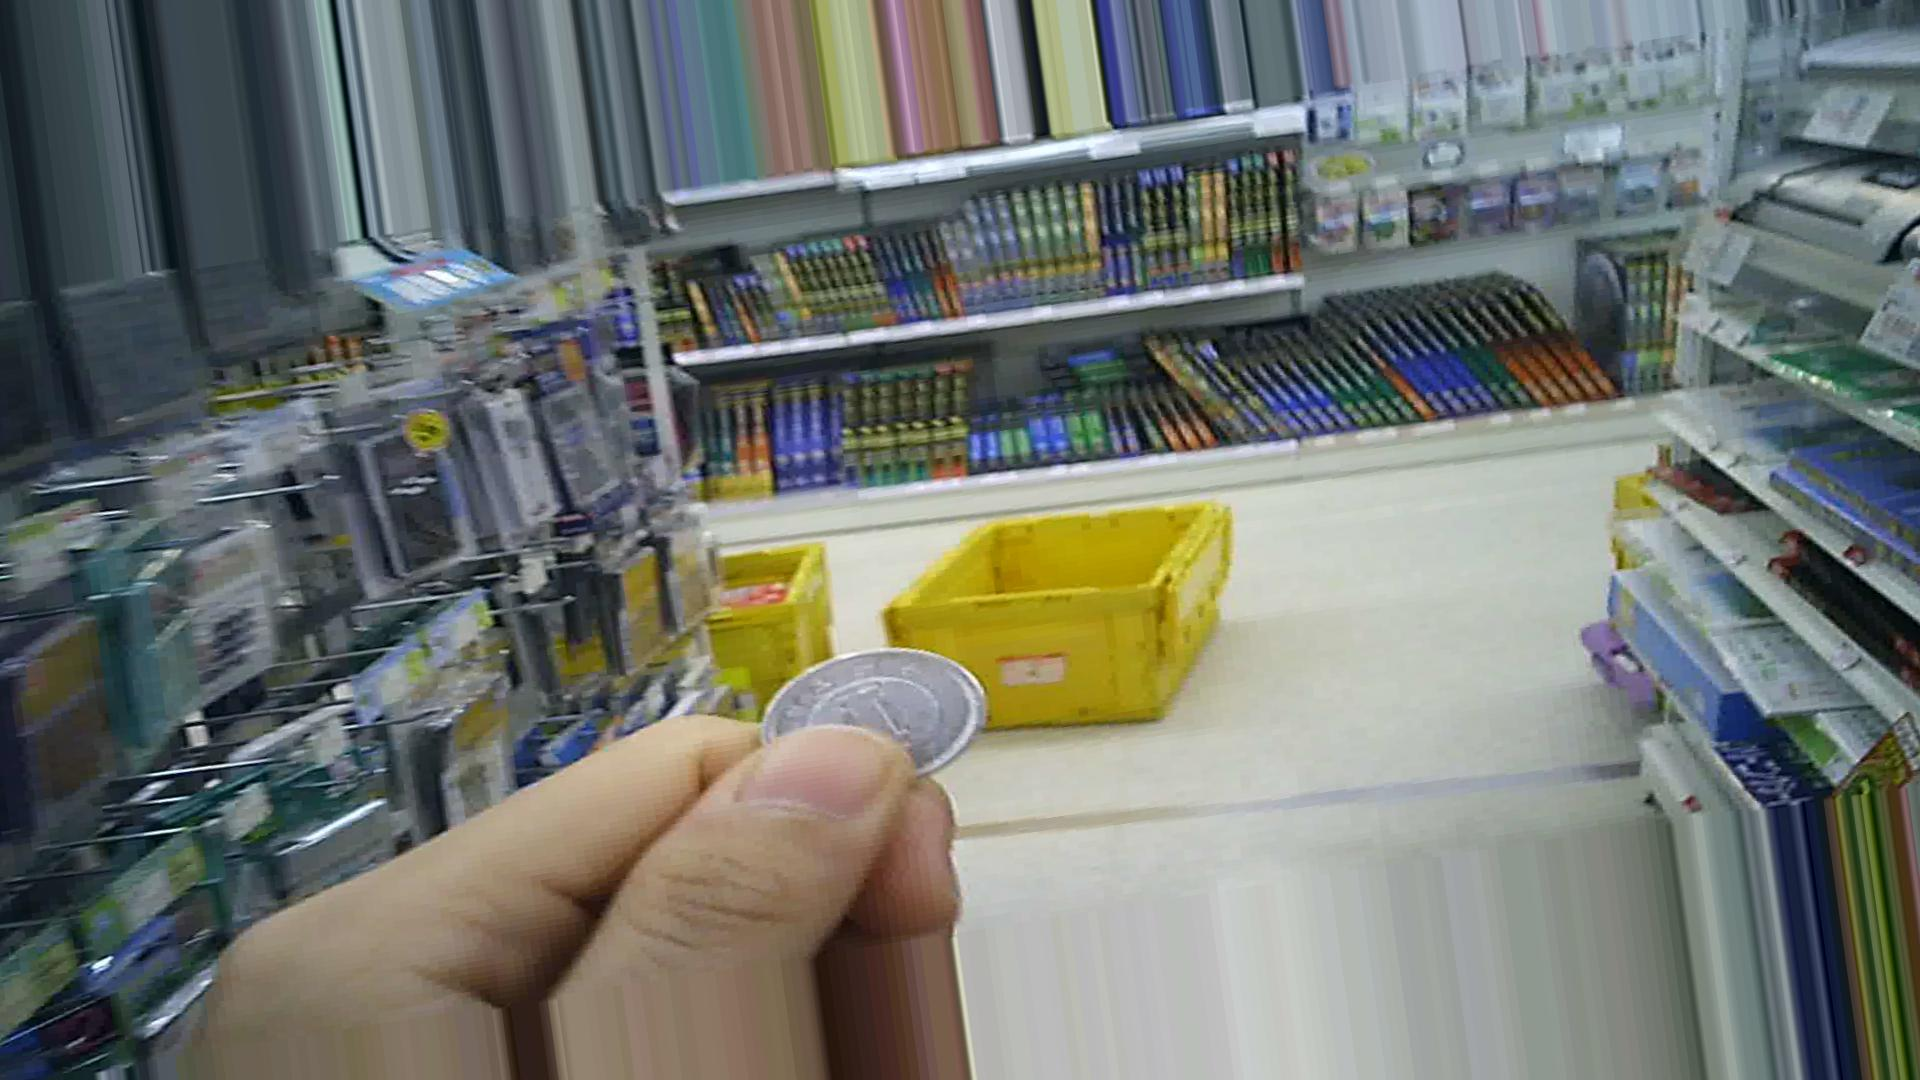1 Yen: (756, 647, 982, 779)
